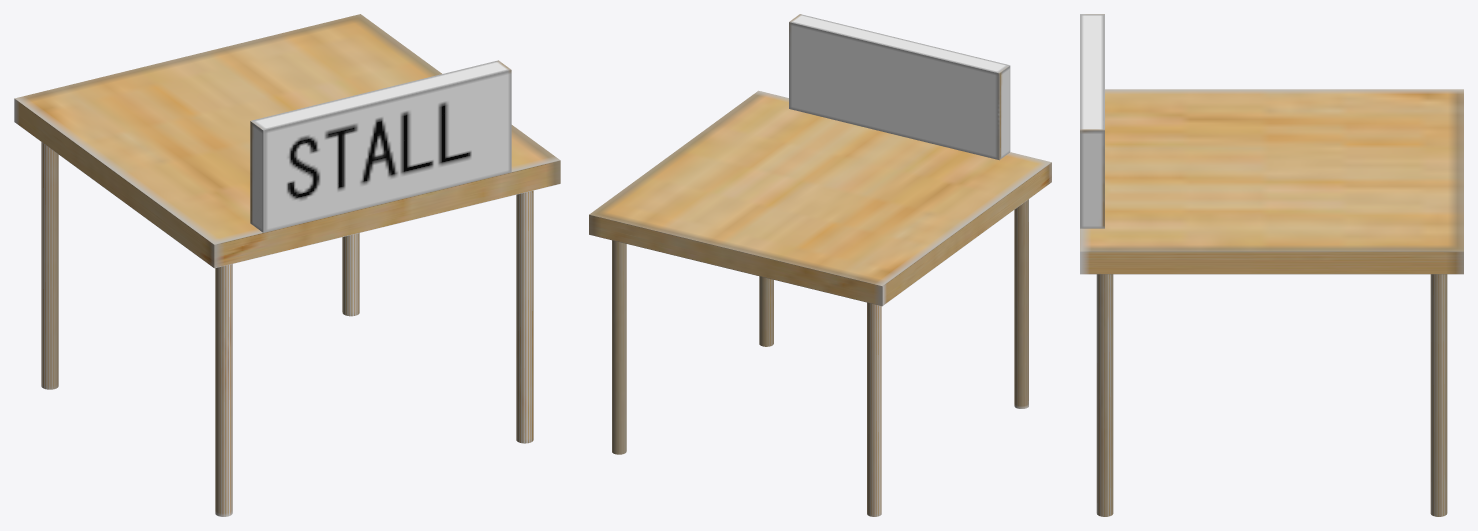
File: Stall.obj
The picture shows the model from 3 angles, left to right: view 1: azimuth 30°, elevation 25°; view 2: azimuth 150°, elevation 25°; view 3: azimuth 270°, elevation 25°; orthographic projection. The views are drawn at different scales.
Visible parts, largest first — view 1: polySurface1; view 2: polySurface1; view 3: polySurface1.
Part boxes in pixels (bbox=[...]): polySurface1: bbox=[14, 14, 560, 516]; polySurface1: bbox=[589, 14, 1051, 516]; polySurface1: bbox=[1080, 14, 1463, 516].
Bounding box in the file's own units: 4.6 × 4.9 × 4.6.
Materials: 1 (1 with a texture image).
